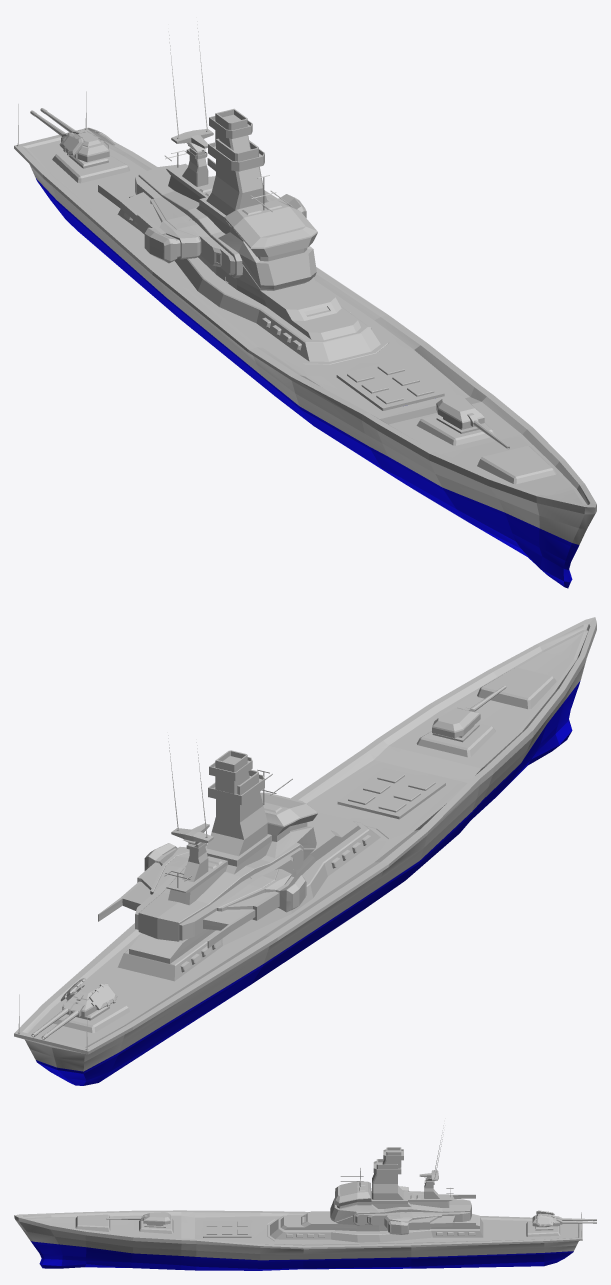
Rendered from big_modern1.fbx.
The picture shows the model from 3 angles, top to bottom: view 1: azimuth 30°, elevation 25°; view 2: azimuth 150°, elevation 25°; view 3: azimuth 270°, elevation 25°; orthographic projection. The views are drawn at different scales.
Parts seen in each view (by area): view 1: big_modern1; view 2: big_modern1; view 3: big_modern1.
Boxes of the visible parts, left/top/right/bottom form: big_modern1: left=14, top=21, right=596, bottom=588; big_modern1: left=14, top=617, right=596, bottom=1085; big_modern1: left=14, top=1125, right=596, bottom=1270.
Bounding box in the file's own units: 1126 × 2071 × 7268.
